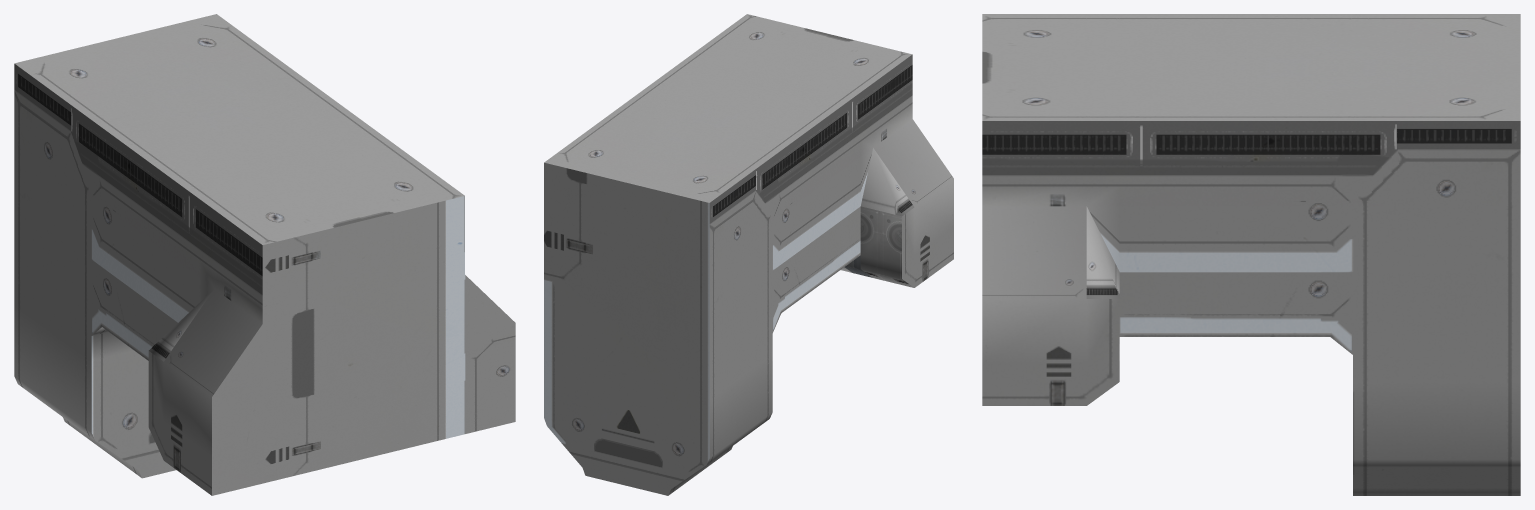
Rendered from SM_ModuGate3_L2a.fbx.
3 views of the same model, side by side, from view 1: azimuth 30°, elevation 25°; view 2: azimuth 150°, elevation 25°; view 3: azimuth 270°, elevation 25° (orthographic). The views are drawn at different scales.
Parts seen in each view (by area): view 1: SM_ModuGate3_L2a_LOD0; view 2: SM_ModuGate3_L2a_LOD0; view 3: SM_ModuGate3_L2a_LOD0.
Part boxes in pixels (<box>): SM_ModuGate3_L2a_LOD0: <box>14,14,515,495</box>; SM_ModuGate3_L2a_LOD0: <box>544,14,953,495</box>; SM_ModuGate3_L2a_LOD0: <box>982,14,1520,495</box>.
Size of the model in its own units: 120 by 170 by 140.
Materials: 3 (3 with a texture image).
